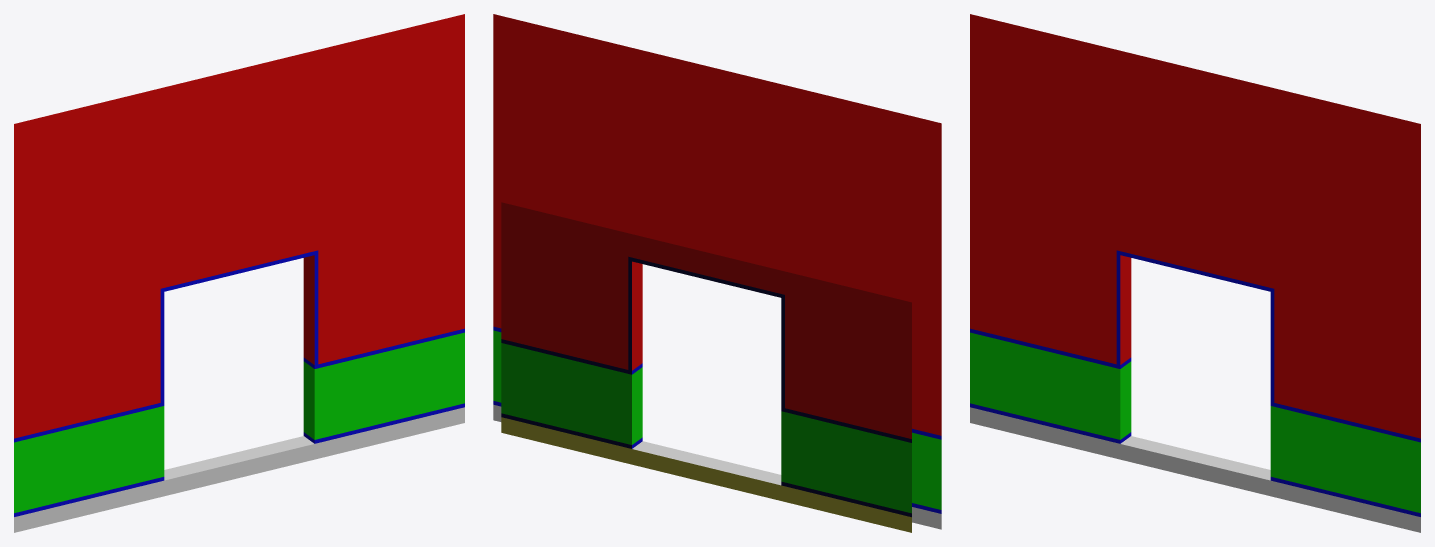
File: SM_Room6xXDoorD.fbx
The picture shows the model from 3 angles, left to right: view 1: azimuth 30°, elevation 25°; view 2: azimuth 150°, elevation 25°; view 3: azimuth 330°, elevation 25°; orthographic projection.
Parts seen in each view (by area): view 1: SM_Room6xXDoorD; view 2: SM_Room6xXDoorD; view 3: SM_Room6xXDoorD.
Boxes of the visible parts, <box> form: SM_Room6xXDoorD: <box>14,14,464,532</box>; SM_Room6xXDoorD: <box>493,14,941,532</box>; SM_Room6xXDoorD: <box>970,14,1420,532</box>.
Bounding box in the file's own units: 600 × 520 × 25.
